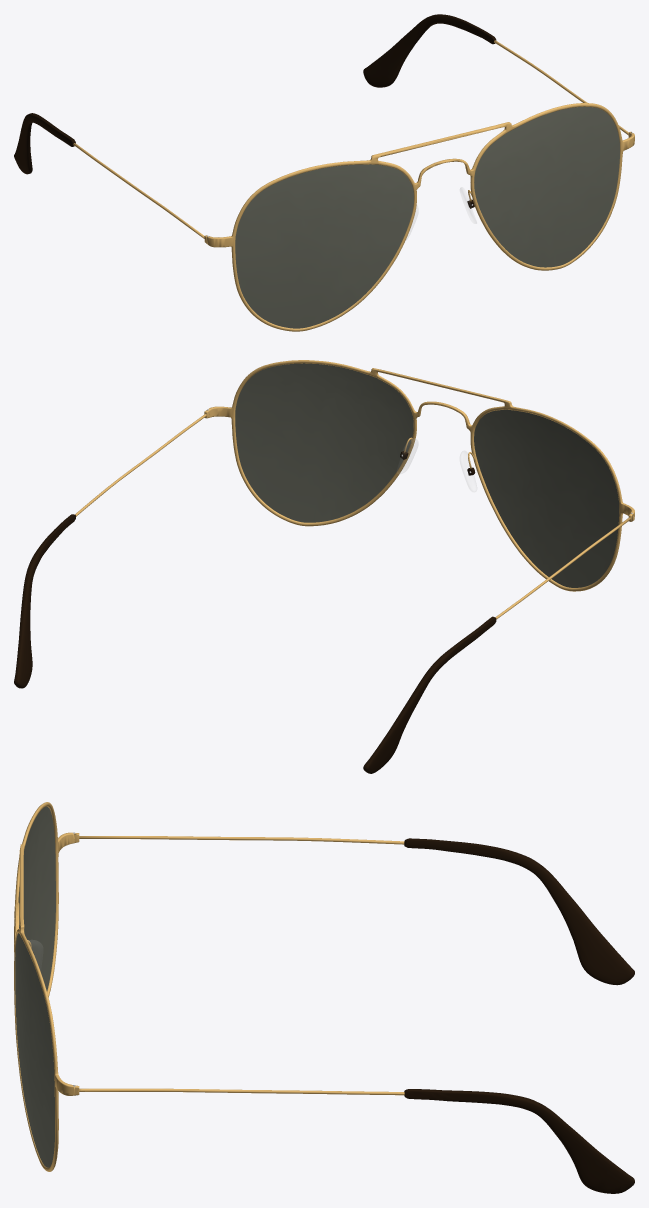
Rendered from aviator-sunglasses.glb.
3 renders of one model, top to bottom at view 1: azimuth 30°, elevation 25°; view 2: azimuth 150°, elevation 25°; view 3: azimuth 270°, elevation 25°, orthographic. The views are drawn at different scales.
Parts seen in each view (by area): view 1: Aviators_Glass tinted_0, Aviators_Gold metallic_0; view 2: Aviators_Glass tinted_0, Aviators_Gold metallic_0, Aviators_Transparent_0; view 3: Aviators_Gold metallic_0, Aviators_Glass tinted_0.
Part boxes in pixels (x1=…): Aviators_Glass tinted_0: x1=235, y1=106, x2=619, y2=328; Aviators_Gold metallic_0: x1=14, y1=14, x2=634, y2=331; Aviators_Glass tinted_0: x1=235, y1=363, x2=619, y2=587; Aviators_Gold metallic_0: x1=14, y1=360, x2=634, y2=773; Aviators_Transparent_0: x1=397, y1=439, x2=476, y2=491; Aviators_Gold metallic_0: x1=14, y1=802, x2=634, y2=1193; Aviators_Glass tinted_0: x1=15, y1=806, x2=55, y2=1167.
Size of the model in its own units: 13.96 by 5.22 by 14.4.
3 materials, 3 textured.
